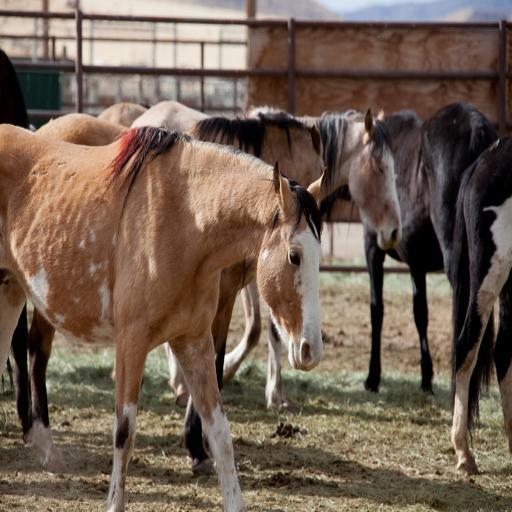horse: (0, 122, 326, 512), (30, 104, 326, 414), (130, 98, 404, 410), (337, 110, 443, 396), (448, 136, 512, 474), (418, 102, 498, 284), (0, 47, 30, 445), (98, 100, 152, 128)
